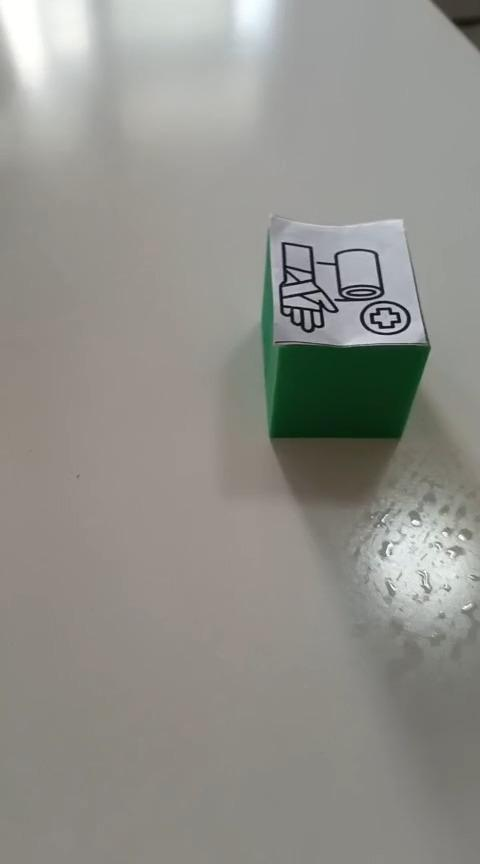Bandages: (260, 212, 431, 440)
